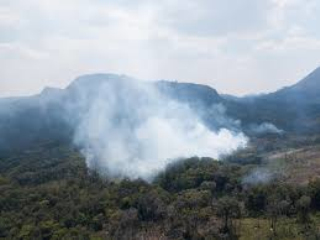smoke: (71, 75, 257, 186)
